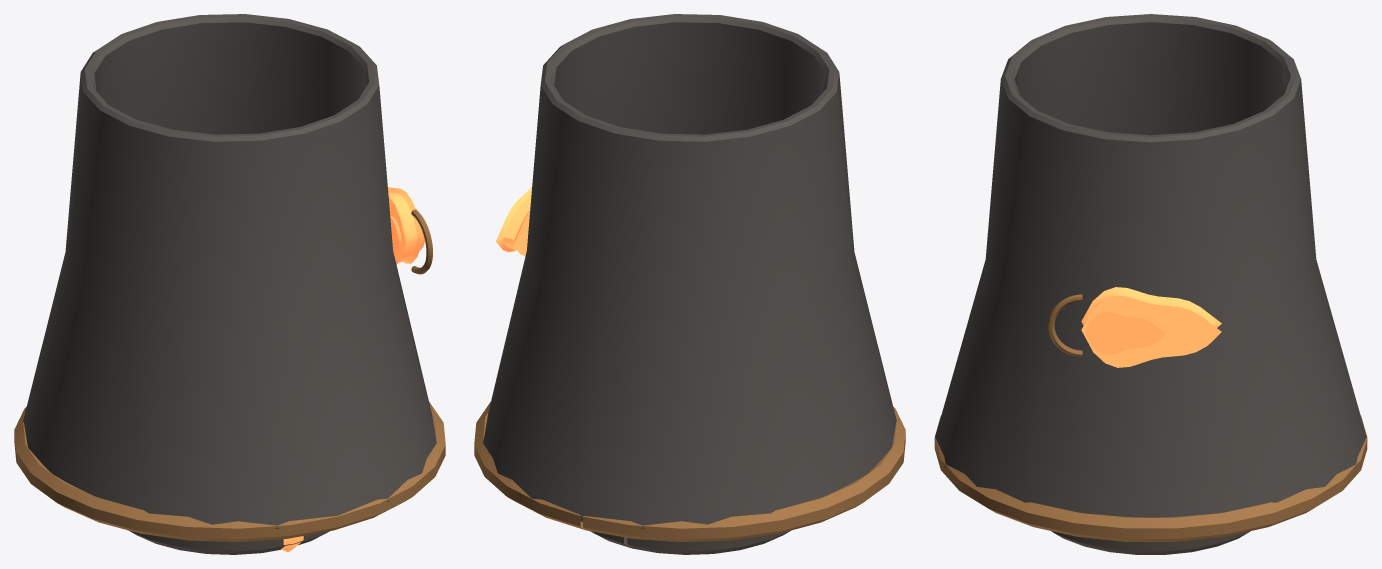
Rendered from boss_ashfall_pilgrim_gloves_1.glb.
The picture shows the model from 3 angles, left to right: view 1: azimuth 30°, elevation 25°; view 2: azimuth 150°, elevation 25°; view 3: azimuth 270°, elevation 25°; orthographic projection.
Parts seen in each view (by area): view 1: boss_ashfall_pilgrim_gloves_1; view 2: boss_ashfall_pilgrim_gloves_1; view 3: boss_ashfall_pilgrim_gloves_1.
Boxes of the visible parts, <box> form: boss_ashfall_pilgrim_gloves_1: <box>14,14,445,554</box>; boss_ashfall_pilgrim_gloves_1: <box>474,14,905,554</box>; boss_ashfall_pilgrim_gloves_1: <box>934,14,1367,554</box>.
Size of the model in its own units: 0.221 by 0.2464 by 0.2227.
